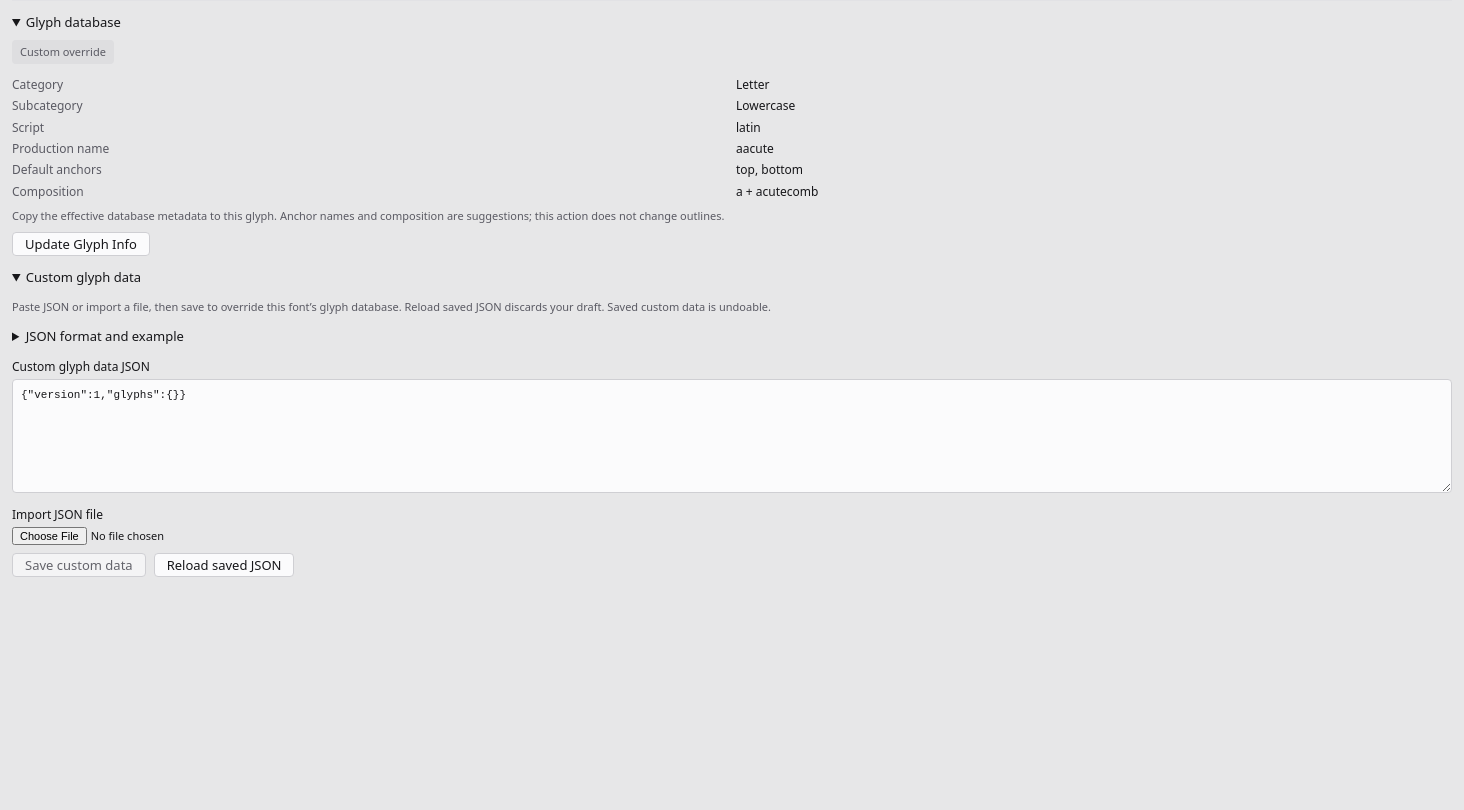
Test case: shows a failed glyph update without reloading the outline
Check: the text "top, bottom" is shown, box 736,161 -> 803,178
Click the button "Update Glyph Info". click: click(81, 244)
box: 12,232 -> 150,256
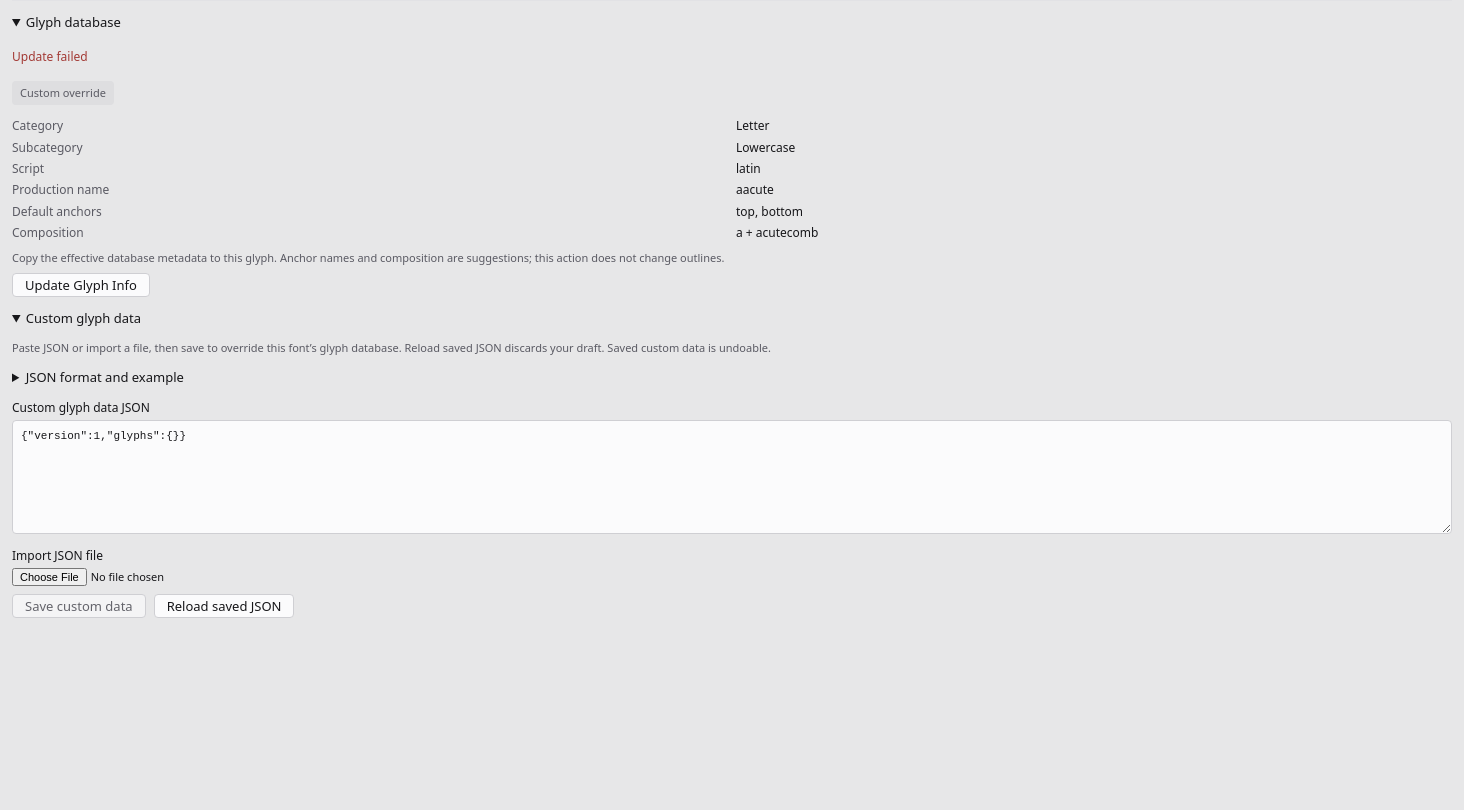
Check: the message reads "Update failed", box 12,48 -> 88,65
